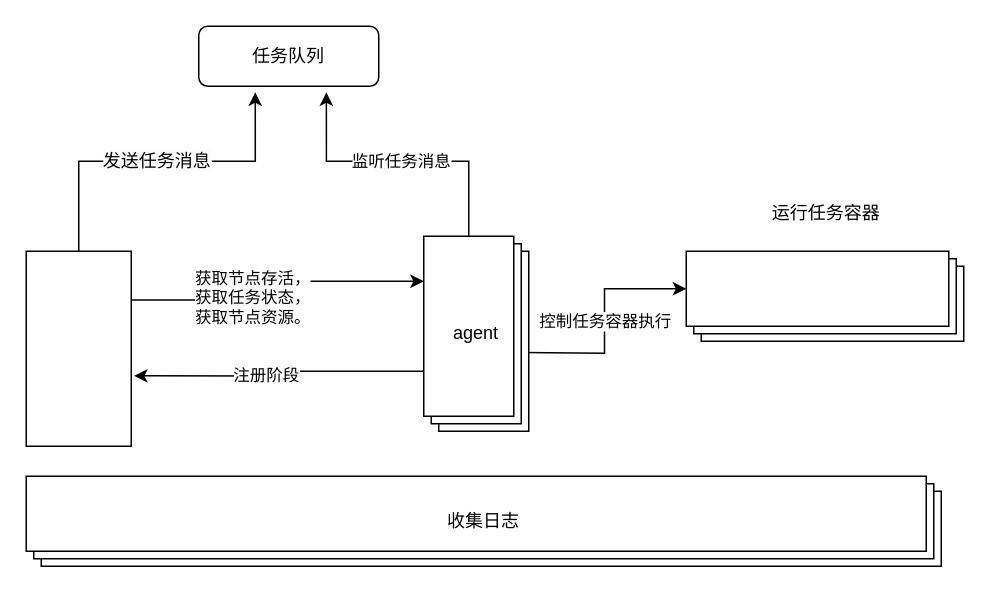
Image size: 990x593. Some labels were removed from this diagram. Each missing label, with the centre of its shape:
"server 对外接口 并负责调度任务和资源" goes at [78,348].
"需求时刻等" goes at [824,295].
